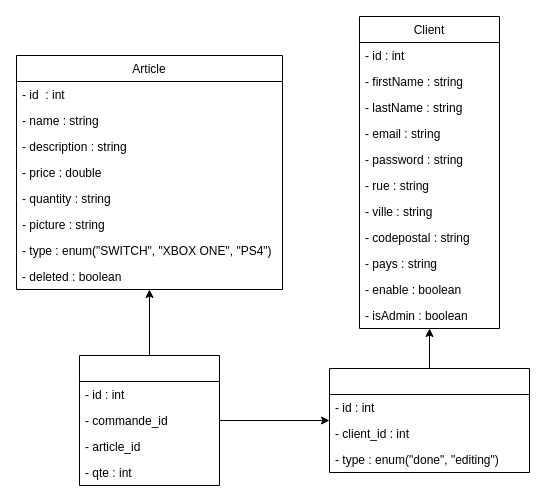
This 546x502 diagram has some shape labels left out. The box of each missing label's shape, as (x1, y1, x2, y2) in pixels:
Commande: (328, 368, 530, 472)
Commande_Article: (78, 354, 220, 486)
